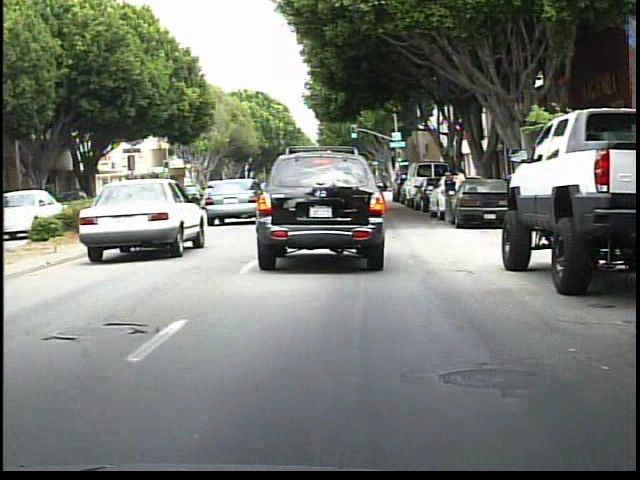person: (442, 172, 459, 228), (452, 166, 469, 221)
